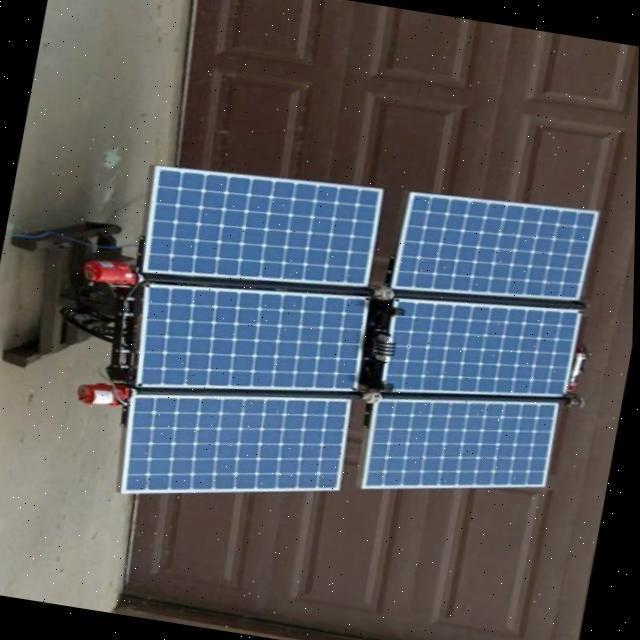Normal Solar Panel: (126, 264, 370, 418), (137, 156, 383, 304), (117, 371, 352, 525), (390, 183, 599, 318), (359, 378, 560, 516), (382, 284, 582, 418)
